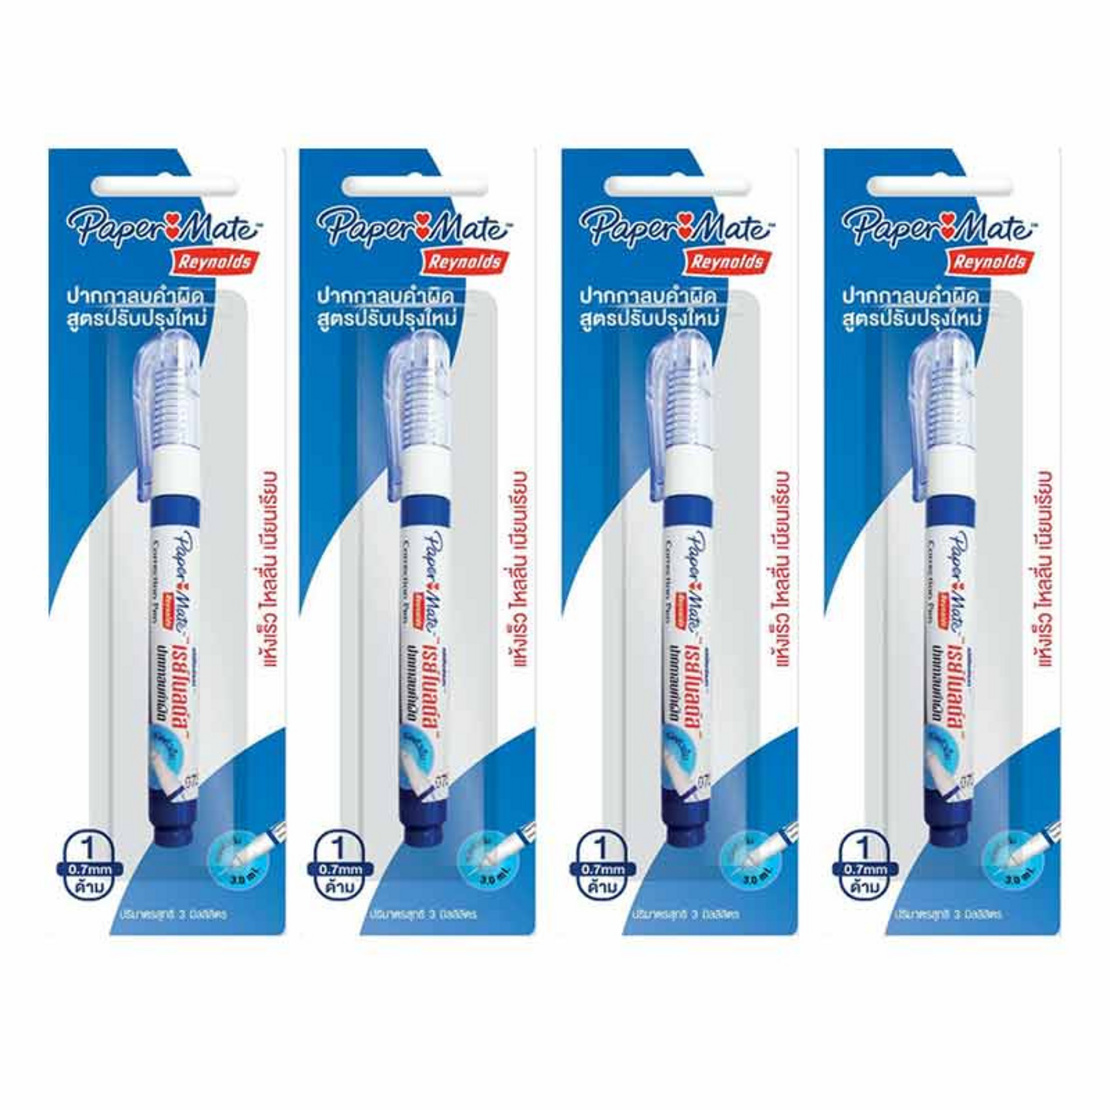Correction_fluid: (629, 319, 731, 851), (366, 322, 460, 855), (129, 321, 221, 861), (899, 316, 985, 850)
